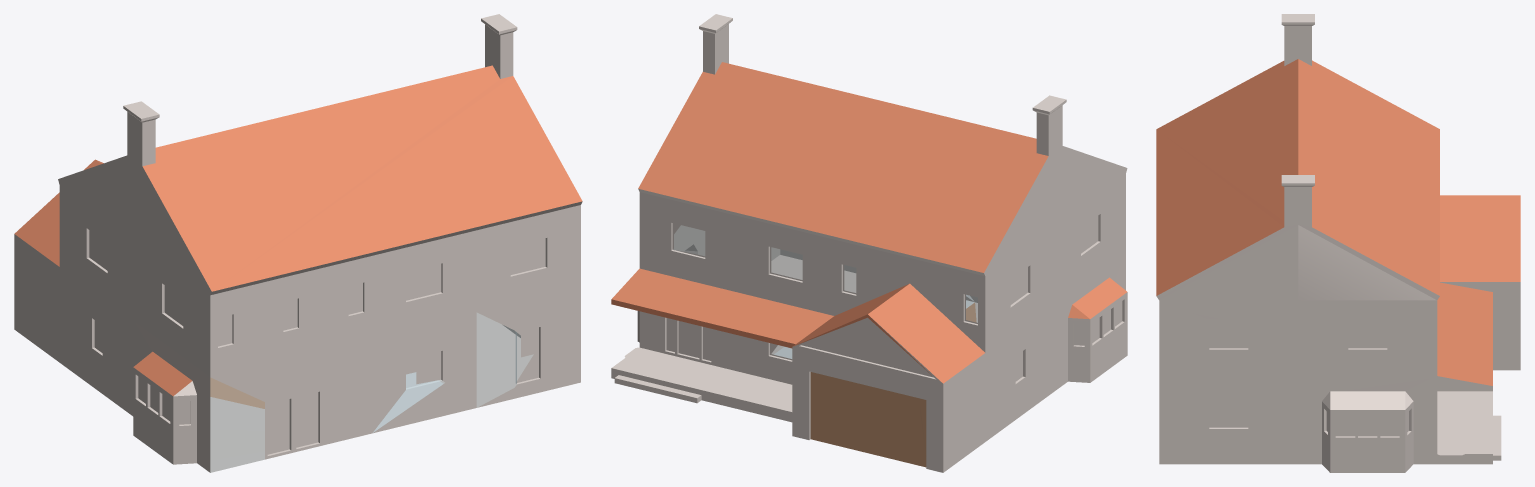
File: town- orange house.fbx
3 views of the same model, side by side, from view 1: azimuth 30°, elevation 25°; view 2: azimuth 150°, elevation 25°; view 3: azimuth 270°, elevation 25° (orthographic). The views are drawn at different scales.
Parts seen in each view (by area): view 1: pasted__polySurface8203; view 2: pasted__polySurface8203; view 3: pasted__polySurface8203.
Boxes of the visible parts, left/top/right/bottom form: pasted__polySurface8203: left=14, top=14, right=582, bottom=472; pasted__polySurface8203: left=611, top=14, right=1127, bottom=472; pasted__polySurface8203: left=1156, top=14, right=1520, bottom=472.
Size of the model in its own units: 16.98 by 12.13 by 14.19.
